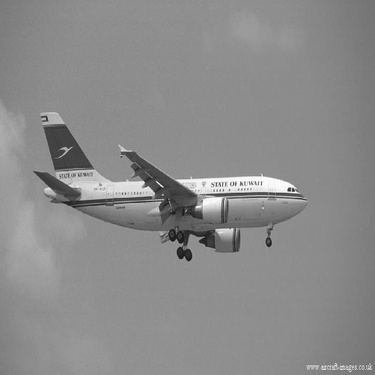airplane: (13, 97, 319, 272)
